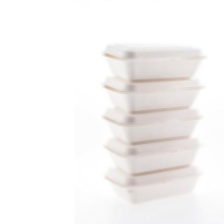foam_box: (96, 38, 212, 83), (97, 102, 208, 147), (100, 72, 211, 115), (101, 133, 204, 178), (99, 162, 204, 206)
